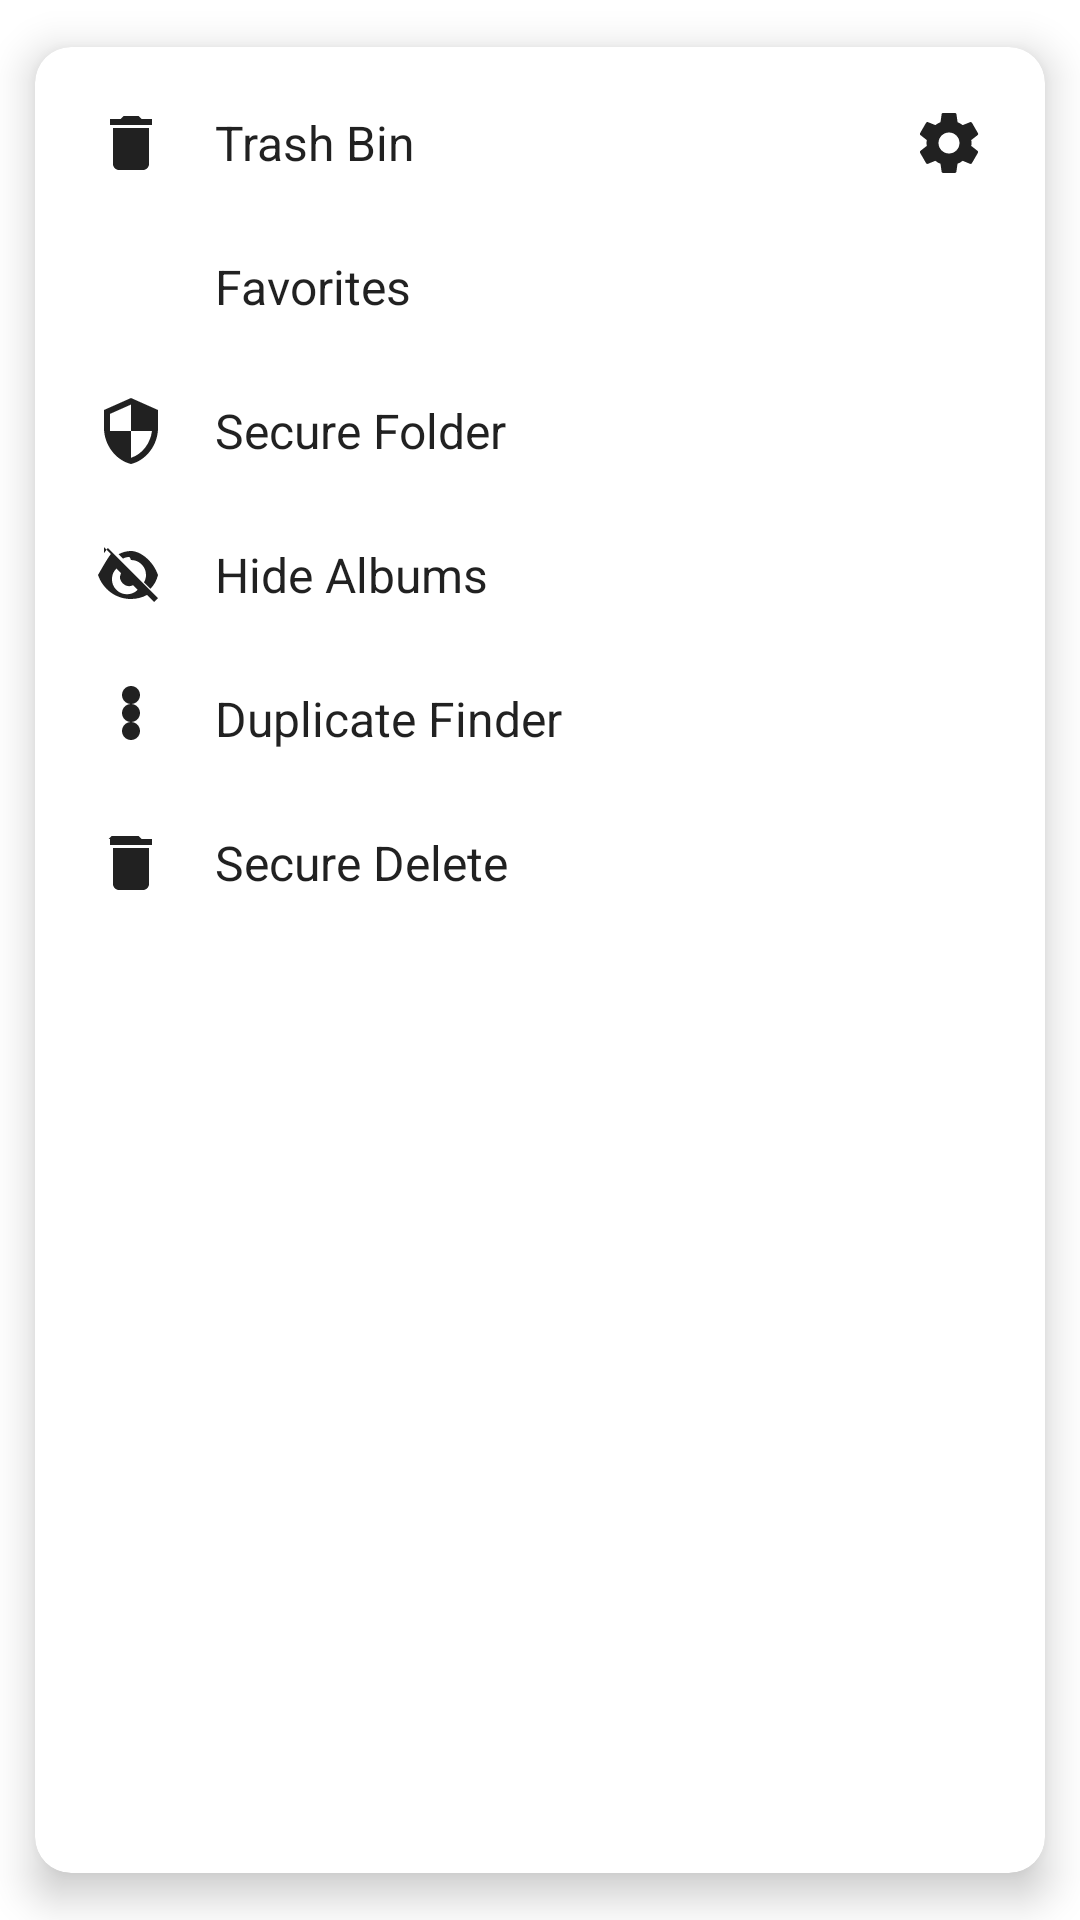

Locate icon controls on the screen. Image size 1080px x 1920px, boxes as (x1, y1, x2, y2).
hidden: (98, 547, 158, 602)
Settings: (920, 113, 978, 173)
shred: (109, 836, 152, 890)
